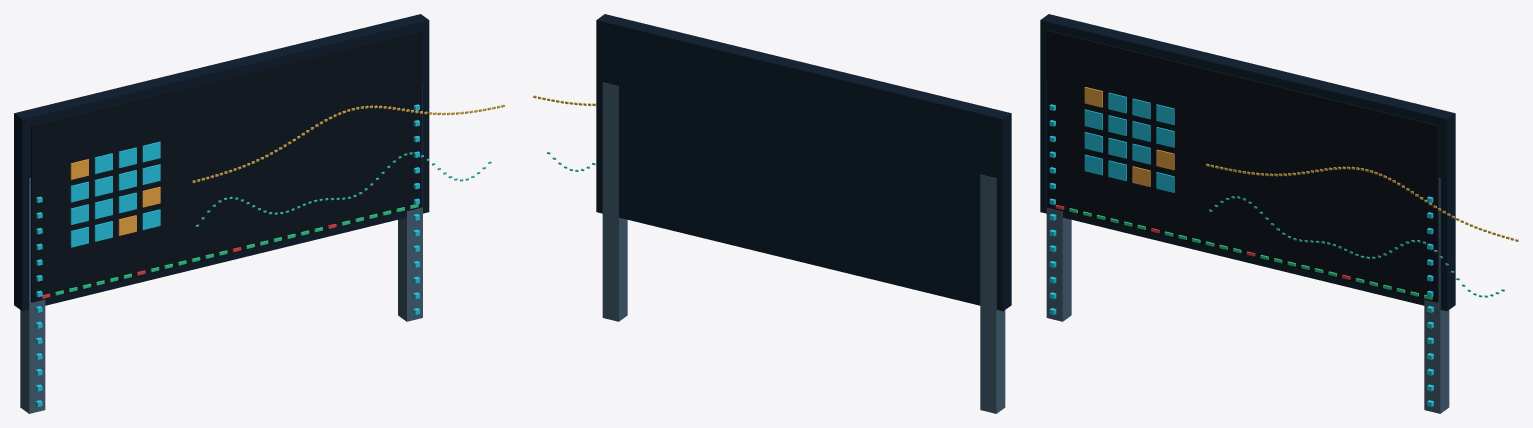
File: 56_L75_HolographicIonImplantationSCADA.fbx
3 views of the same model, side by side, from view 1: azimuth 30°, elevation 25°; view 2: azimuth 150°, elevation 25°; view 3: azimuth 330°, elevation 25° (orthographic).
Parts seen in each view (by area): view 1: HolographicIonImplantationSCADA_Part_0031, HolographicIonImplantationSCADA_Part_0030, HolographicIonImplantationSCADA; view 2: HolographicIonImplantationSCADA_Part_0030, HolographicIonImplantationSCADA; view 3: HolographicIonImplantationSCADA_Part_0031, HolographicIonImplantationSCADA_Part_0030, HolographicIonImplantationSCADA.
Boxes of the visible parts, x1,y1,x2,y2 form: HolographicIonImplantationSCADA_Part_0031: (31,30,422,302); HolographicIonImplantationSCADA_Part_0030: (14,14,429,311); HolographicIonImplantationSCADA: (20,82,422,413); HolographicIonImplantationSCADA_Part_0030: (596,14,1011,311); HolographicIonImplantationSCADA: (602,82,1005,413); HolographicIonImplantationSCADA_Part_0031: (1047,30,1438,302); HolographicIonImplantationSCADA_Part_0030: (1040,14,1455,311); HolographicIonImplantationSCADA: (1046,82,1449,413).
Size of the model in its own units: 623 by 367 by 26.5.
